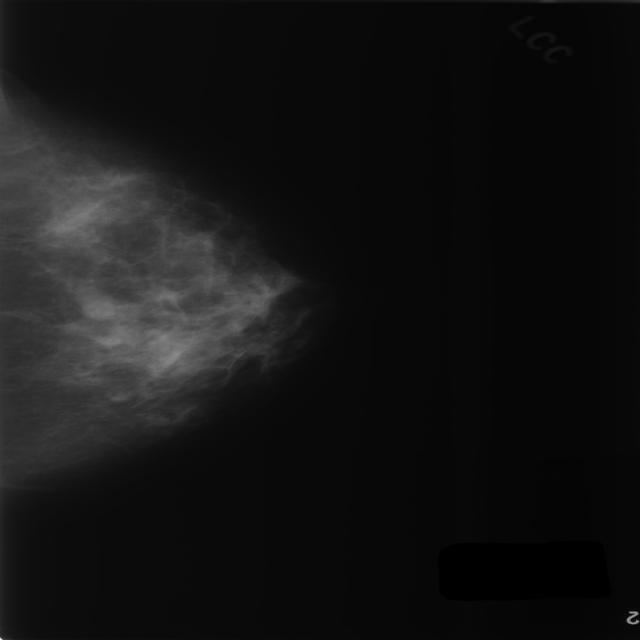tumour: (71, 287, 115, 320)
